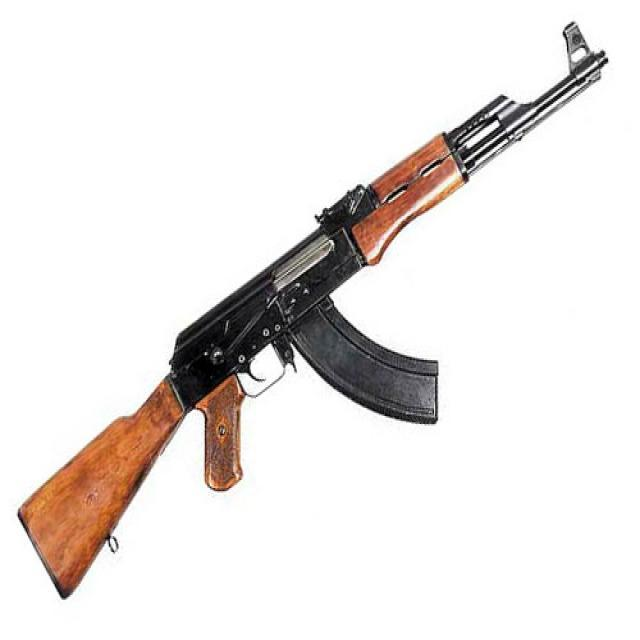weapon: (16, 21, 609, 601)
